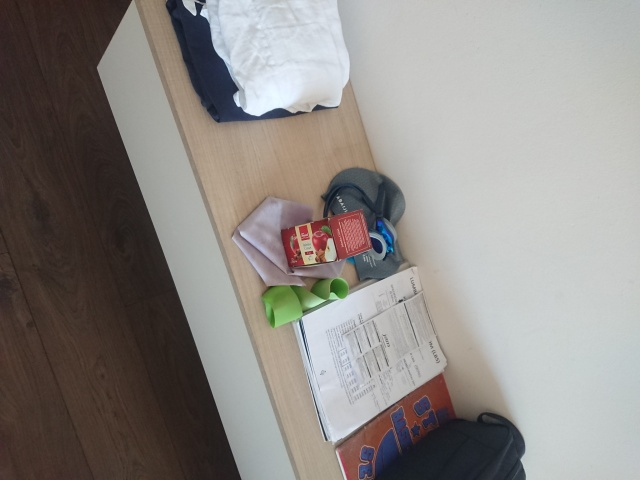Franck Apple Cinnamon Tea 60g: (278, 207, 373, 269)
